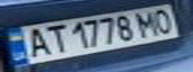1: (66, 19, 87, 49)
7: (96, 15, 121, 44), (81, 17, 103, 47)
8: (112, 12, 139, 42)
A: (18, 25, 54, 58)
M: (130, 8, 163, 38)
O: (148, 7, 178, 35)
T: (42, 21, 69, 54)
